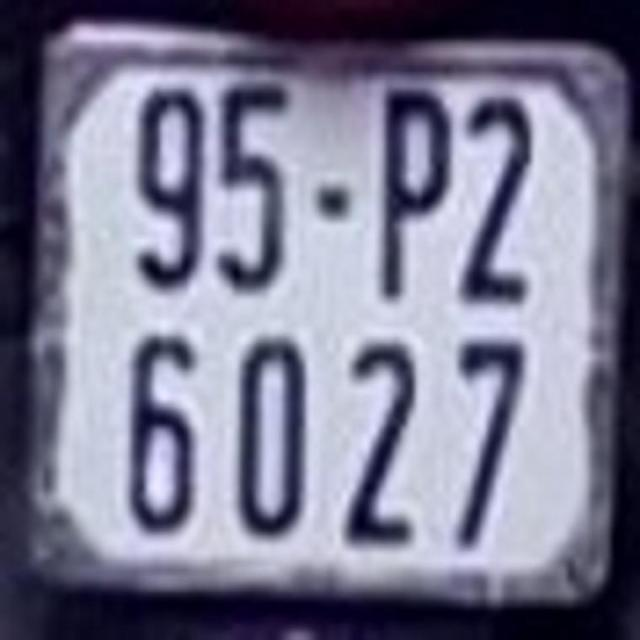0: (230, 324, 308, 540)
2: (340, 330, 421, 552), (460, 89, 536, 305)
5: (214, 80, 290, 292)
6: (126, 323, 197, 535)
7: (450, 329, 532, 546)
9: (133, 81, 204, 290)
P: (373, 82, 454, 293)
